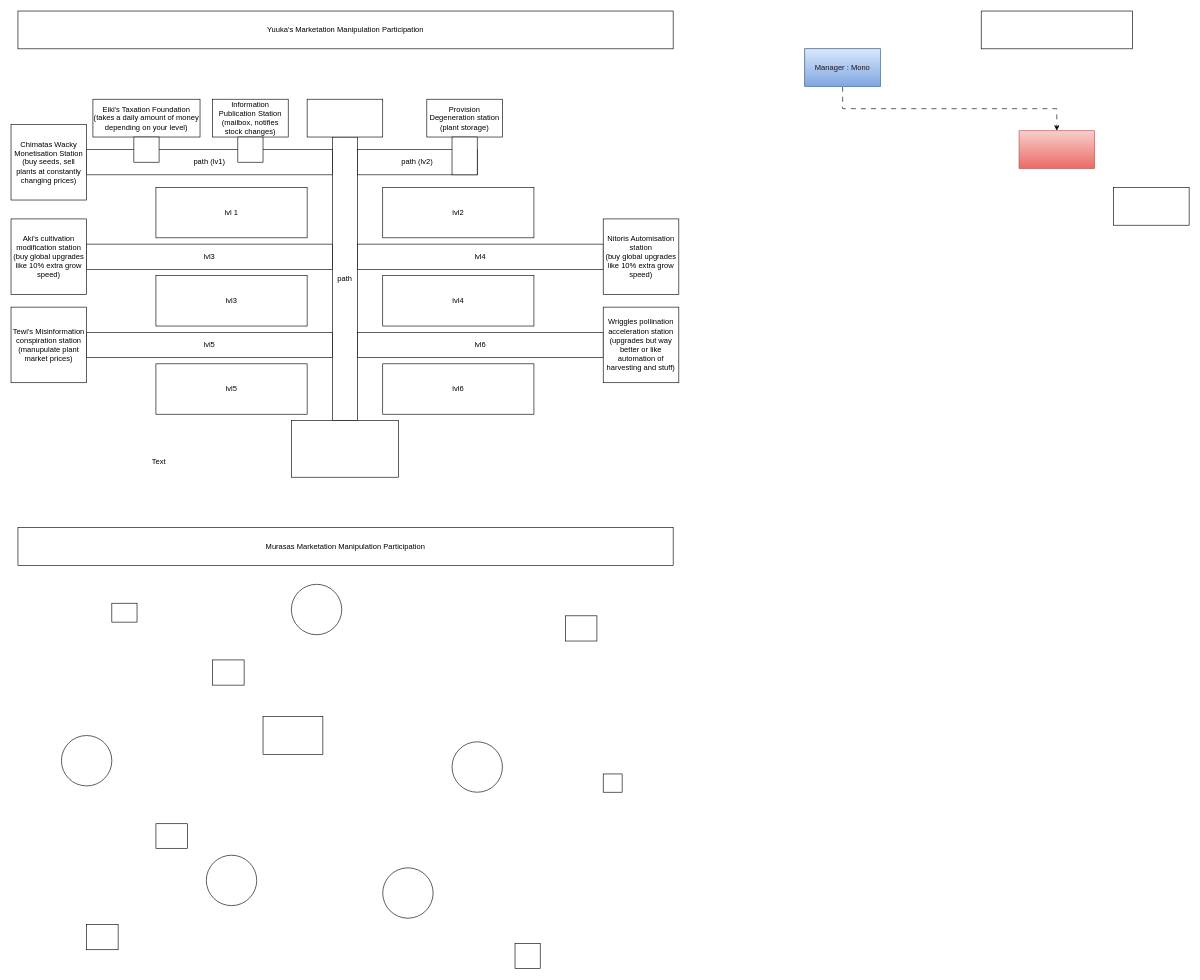
Some shapes in this 1200 by 980 pixel diagram are drawn without their labels. Each missing label, with the centre of its shape:
"Joon's Donation Duplication station (a literal casino) lvl7" goes at (x=344, y=448).
"Menu Hierarchy" goes at (x=1056, y=29).
"MenuManager" goes at (x=1056, y=149).
"MRUASAS ship trading co" goes at (x=292, y=735).
"Yuukas Habitation station" goes at (x=344, y=118).
